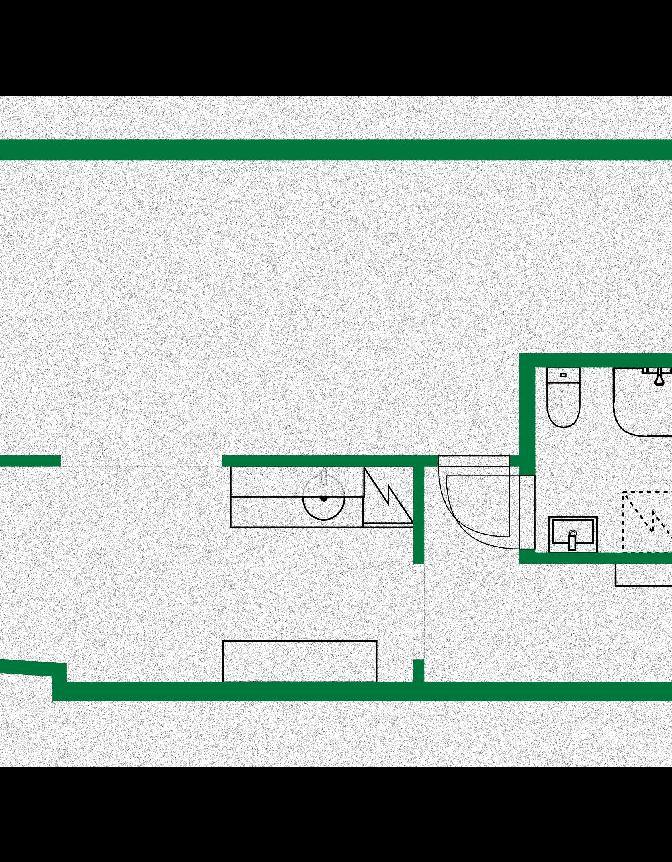door: (429, 474, 551, 548), (435, 455, 506, 539)
zone: (0, 155, 672, 687), (526, 368, 672, 559)
